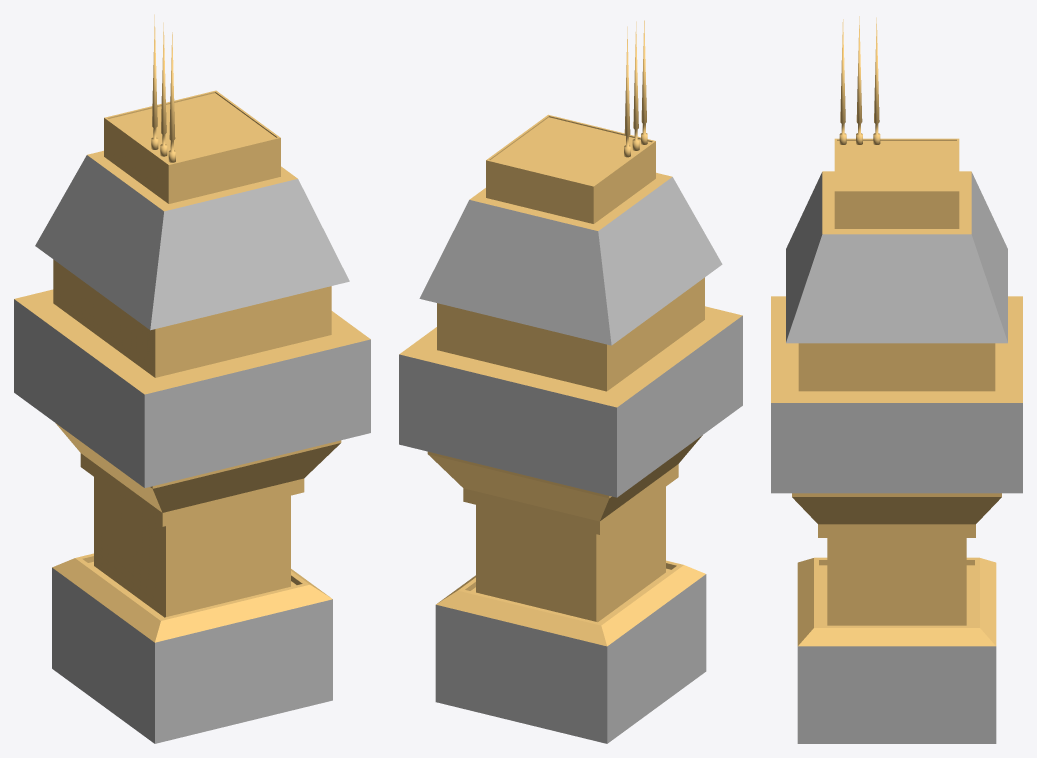
Rendered from Building.10.fbx.
3 views of the same model, side by side, from view 1: azimuth 30°, elevation 25°; view 2: azimuth 150°, elevation 25°; view 3: azimuth 270°, elevation 25° (orthographic). The views are drawn at different scales.
Parts seen in each view (by area): view 1: Building_10; view 2: Building_10; view 3: Building_10.
Boxes of the visible parts, x1,y1,x2,y2 form: Building_10: [14, 14, 370, 743]; Building_10: [399, 20, 742, 743]; Building_10: [771, 16, 1022, 743].
Size of the model in its own units: 3461 by 10086 by 3461.
